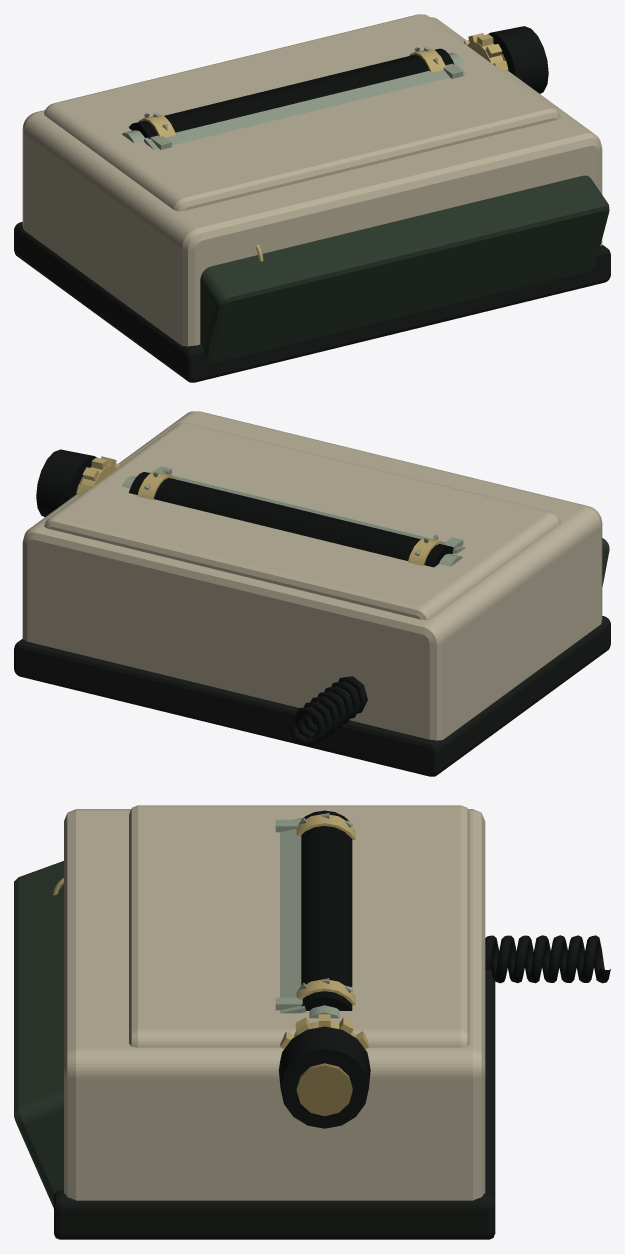
Rendered from pravda_teletype.glb.
3 renders of one model, top to bottom at view 1: azimuth 30°, elevation 25°; view 2: azimuth 150°, elevation 25°; view 3: azimuth 270°, elevation 25°, orthographic. The views are drawn at different scales.
Visible parts, largest first — view 1: PravdaTeletype84; view 2: PravdaTeletype84; view 3: PravdaTeletype84.
Boxes of the visible parts, x1,y1,x2,y2 form: PravdaTeletype84: (14,14,610,382); PravdaTeletype84: (14,411,610,776); PravdaTeletype84: (14,805,610,1239).
Bounding box in the file's own units: 0.655 × 0.2455 × 0.5952.
